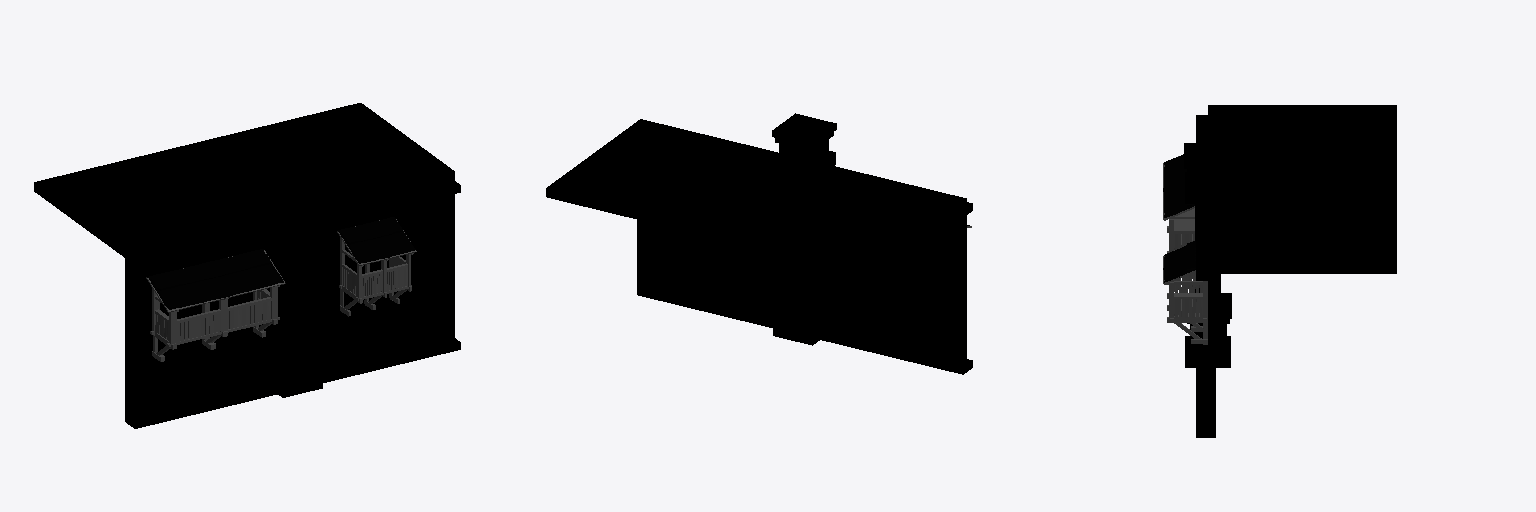
3 views of the same model, side by side, from view 1: azimuth 30°, elevation 25°; view 2: azimuth 150°, elevation 25°; view 3: azimuth 270°, elevation 25° (orthographic).
Parts seen in each view (by area): view 1: object_4, object_5, Cube.049_Cube.075, object_20, object_3, object_19, object_7, object_8, object_6, object_9, object_18, object_2 (+7 smaller); view 2: object_5, object_4, object_3, object_20, object_19, object_7, object_6, object_2, object_1, object_13, object_16, object_11 (+3 smaller); view 3: object_3, object_19, Cube.049_Cube.075, object_6, object_20, object_7, object_4, object_1, object_2, object_8, object_13, object_9 (+4 smaller).
Boxes of the visible parts, x1=… form: object_4: x1=309, y1=169, x2=454, y2=371; object_5: x1=125, y1=214, x2=280, y2=424; Cube.049_Cube.075: x1=146, y1=217, x2=416, y2=361; object_20: x1=36, y1=172, x2=271, y2=260; object_3: x1=158, y1=133, x2=327, y2=218; object_19: x1=264, y1=132, x2=454, y2=212; object_7: x1=34, y1=172, x2=164, y2=251; object_8: x1=129, y1=181, x2=460, y2=271; object_6: x1=321, y1=103, x2=450, y2=178; object_9: x1=129, y1=338, x2=460, y2=428; object_18: x1=281, y1=228, x2=308, y2=336; object_2: x1=75, y1=152, x2=180, y2=190; object_5: x1=811, y1=164, x2=966, y2=374; object_4: x1=637, y1=119, x2=786, y2=327; object_3: x1=670, y1=152, x2=839, y2=246; object_20: x1=710, y1=174, x2=966, y2=273; object_19: x1=548, y1=134, x2=755, y2=236; object_7: x1=833, y1=192, x2=962, y2=276; object_6: x1=546, y1=122, x2=676, y2=206; object_2: x1=750, y1=221, x2=854, y2=266; object_1: x1=587, y1=181, x2=691, y2=226; object_13: x1=772, y1=113, x2=836, y2=146; object_16: x1=779, y1=294, x2=815, y2=329; object_11: x1=779, y1=140, x2=828, y2=165; object_3: x1=1216, y1=165, x2=1396, y2=206; object_19: x1=1208, y1=207, x2=1396, y2=273; Cube.049_Cube.075: x1=1163, y1=154, x2=1207, y2=344; object_6: x1=1216, y1=245, x2=1396, y2=273; object_20: x1=1216, y1=128, x2=1349, y2=164; object_7: x1=1216, y1=105, x2=1396, y2=127; object_4: x1=1208, y1=195, x2=1215, y2=437; object_1: x1=1350, y1=205, x2=1396, y2=244; object_2: x1=1350, y1=125, x2=1396, y2=164; object_8: x1=1196, y1=115, x2=1207, y2=280; object_13: x1=1184, y1=143, x2=1231, y2=168; object_9: x1=1196, y1=361, x2=1207, y2=437.
Bounding box in the file's own units: 20 × 12.01 × 12.38.